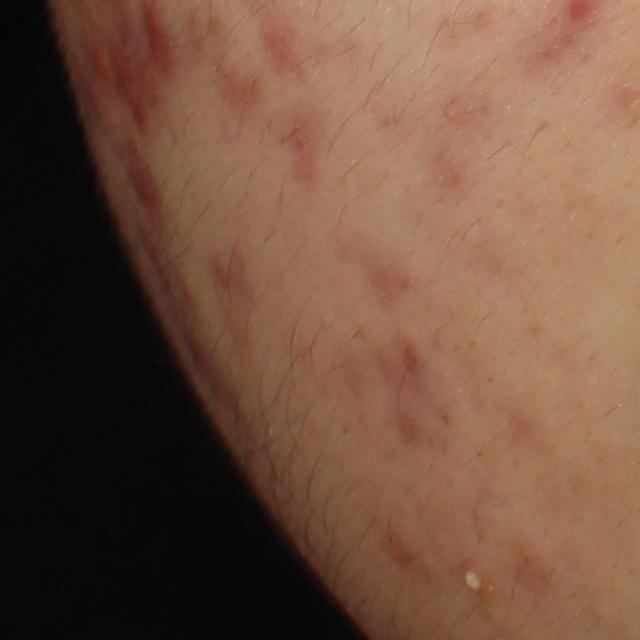pustule: (454, 555, 491, 606)
